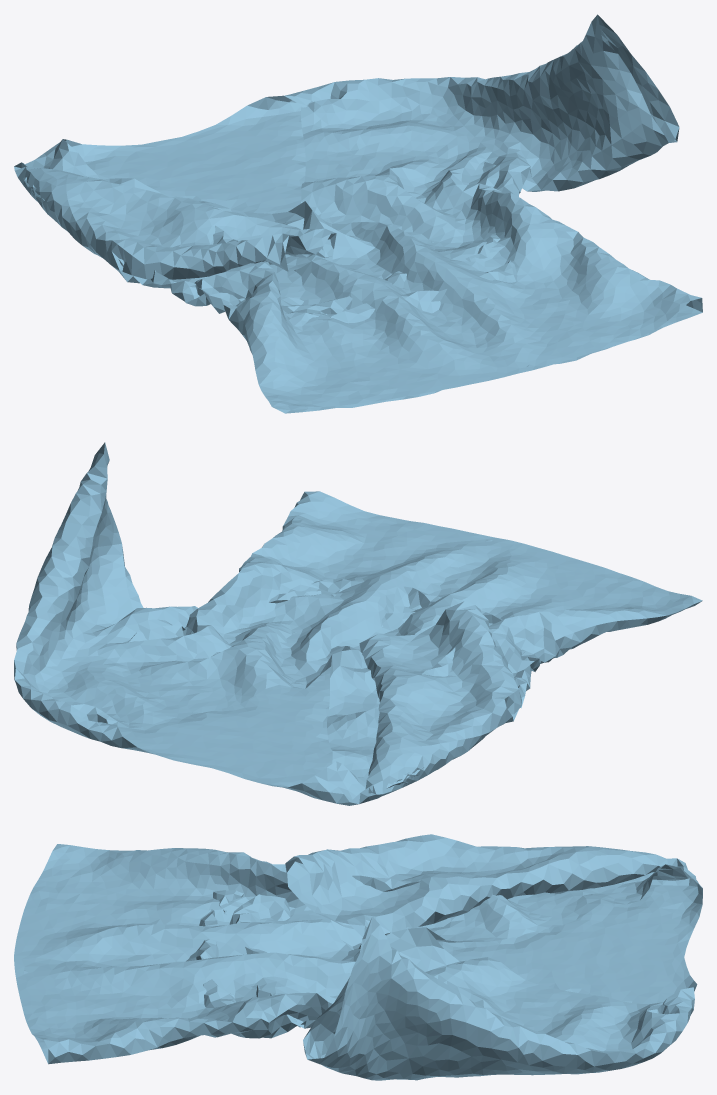
File: frame_08.glb
3 renders of one model, top to bottom at view 1: azimuth 30°, elevation 25°; view 2: azimuth 150°, elevation 25°; view 3: azimuth 270°, elevation 25°, orthographic. The views are drawn at different scales.
Visible parts, largest first — view 1: frame_08.obj; view 2: frame_08.obj; view 3: frame_08.obj.
Boxes of the visible parts, x1=… form: frame_08.obj: x1=14, y1=14, x2=702, y2=413; frame_08.obj: x1=14, y1=442, x2=702, y2=805; frame_08.obj: x1=14, y1=834, x2=702, y2=1080.
Bounding box in the file's own units: 1.46 × 0.4586 × 1.58.
